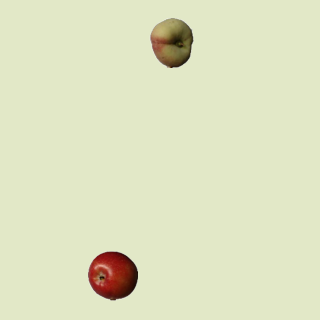Apple Braeburn: (87, 250, 137, 300)
Peach Flat: (146, 17, 196, 67)
